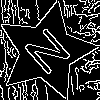N: (21, 26, 80, 84)
